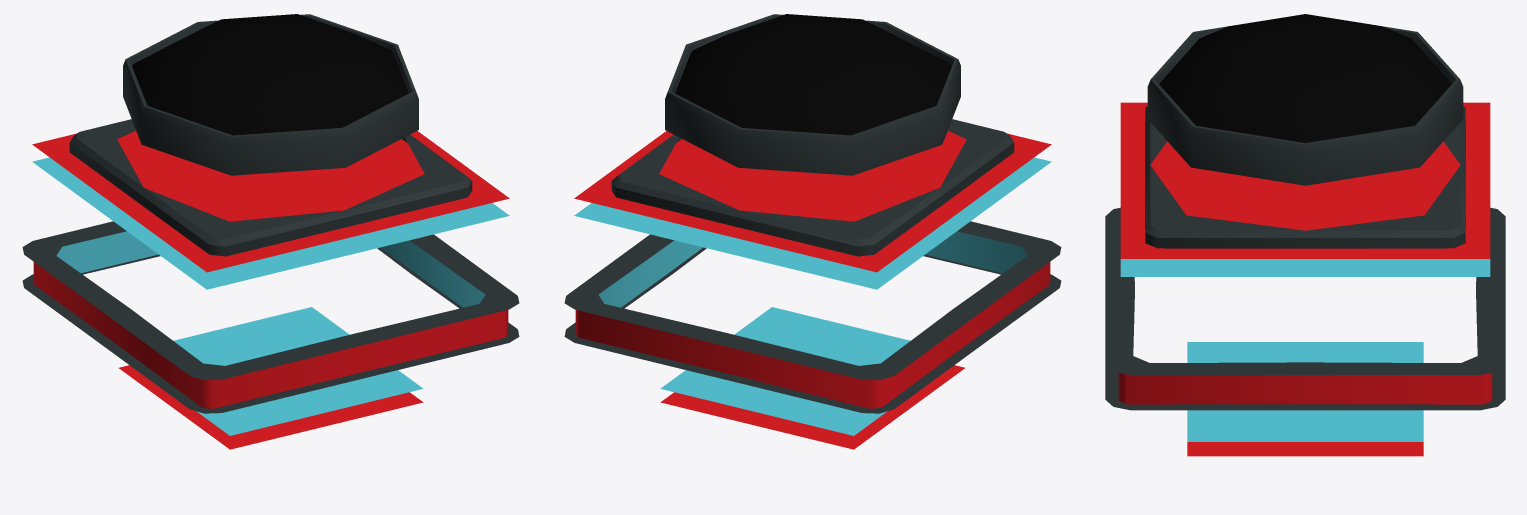
Rendered from fant_chest_fill_detector_off.obj.
The picture shows the model from 3 angles, left to right: view 1: azimuth 30°, elevation 25°; view 2: azimuth 150°, elevation 25°; view 3: azimuth 270°, elevation 25°; orthographic projection. The views are drawn at different scales.
Parts seen in each view (by area): view 1: fant_chest_fill_detector_off; view 2: fant_chest_fill_detector_off; view 3: fant_chest_fill_detector_off.
Boxes of the visible parts, x1=… form: fant_chest_fill_detector_off: x1=22, y1=14, x2=519, y2=449; fant_chest_fill_detector_off: x1=564, y1=14, x2=1061, y2=449; fant_chest_fill_detector_off: x1=1105, y1=14, x2=1505, y2=456.
Bounding box in the file's own units: 1 × 1 × 1.
